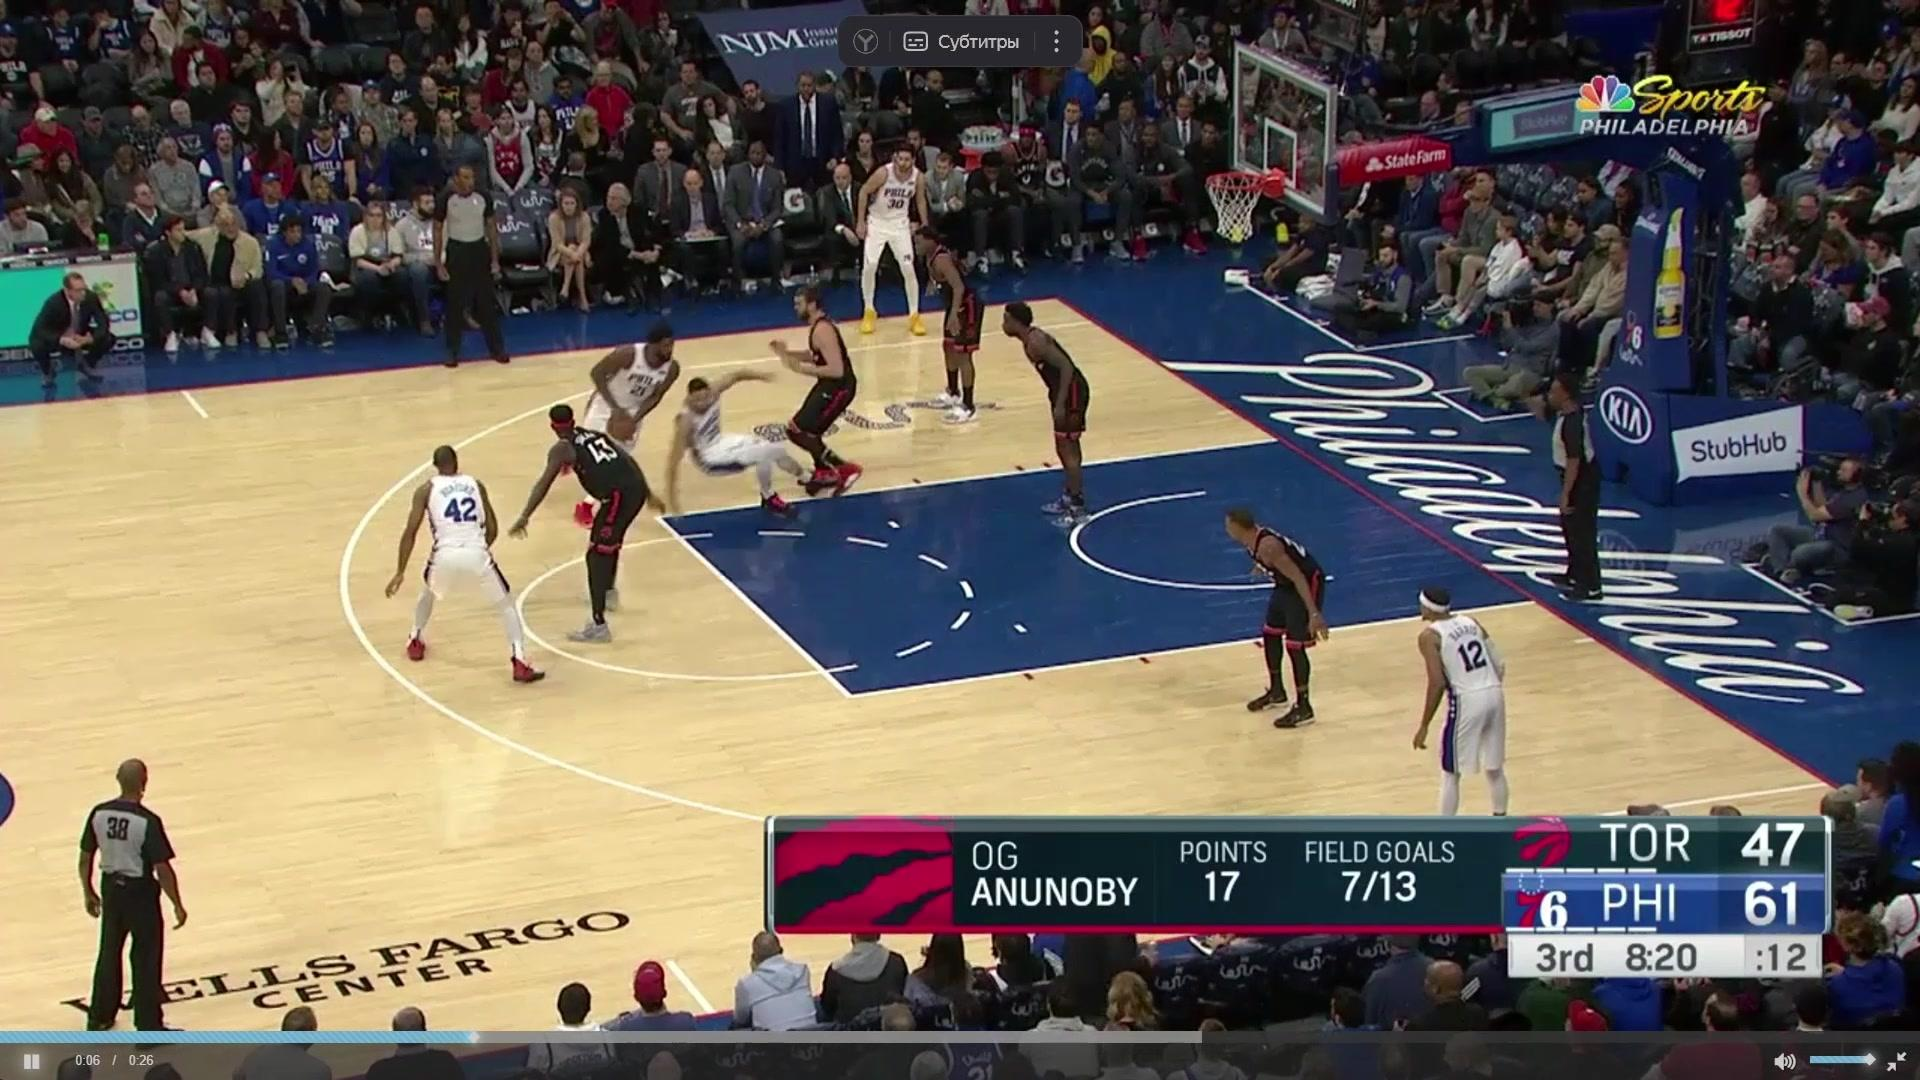foul: (671, 301, 886, 531)
